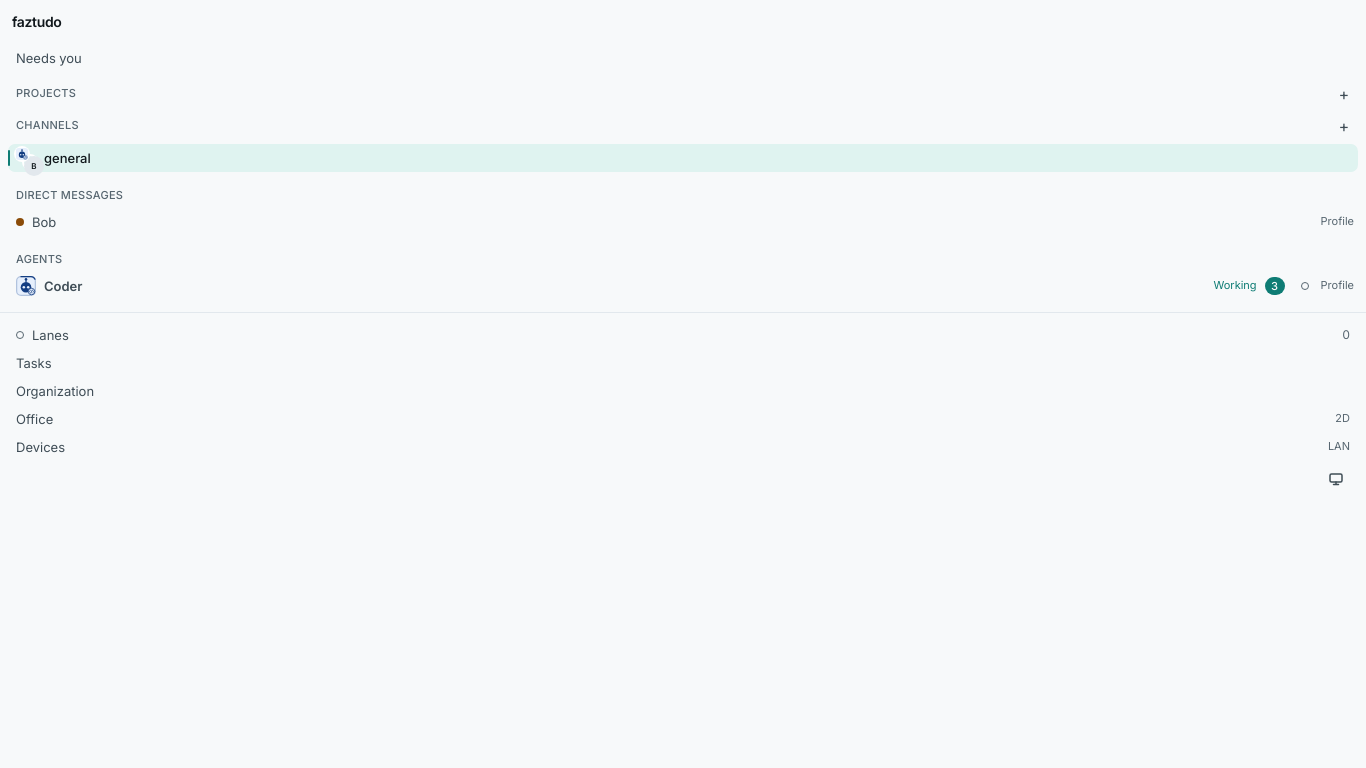
WorkspaceNav › cycles the theme System, Light, Dark with one icon button
Click the button named "Theme: System. Switch to Light.".
click(1336, 479)  # box [1322,465,1350,493]
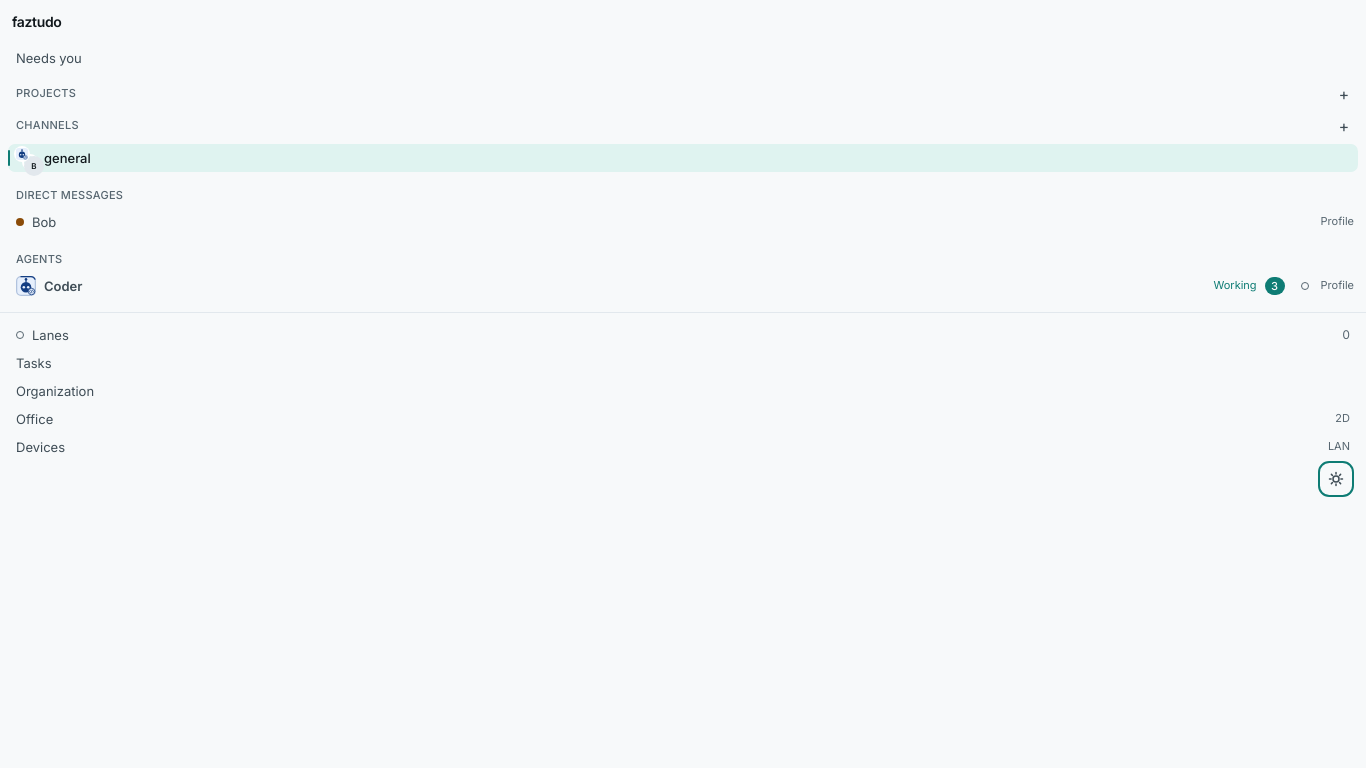
Now the button named "Theme: Light. Switch to Dark." is shown
Click the button named "Theme: Light. Switch to Dark.".
click(1336, 479)  # box [1322,465,1350,493]
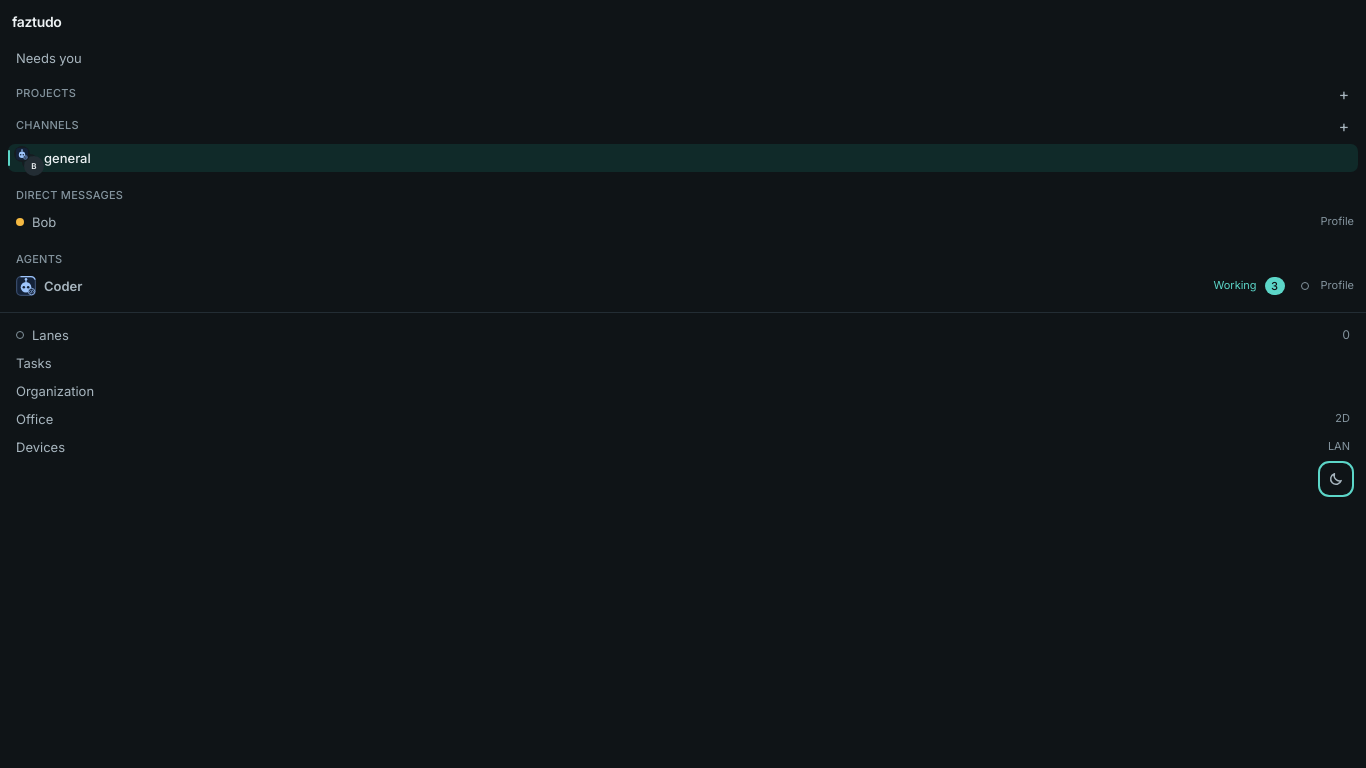
Click the button named "Theme: Dark. Switch to System.".
click(1336, 479)  # box [1322,465,1350,493]
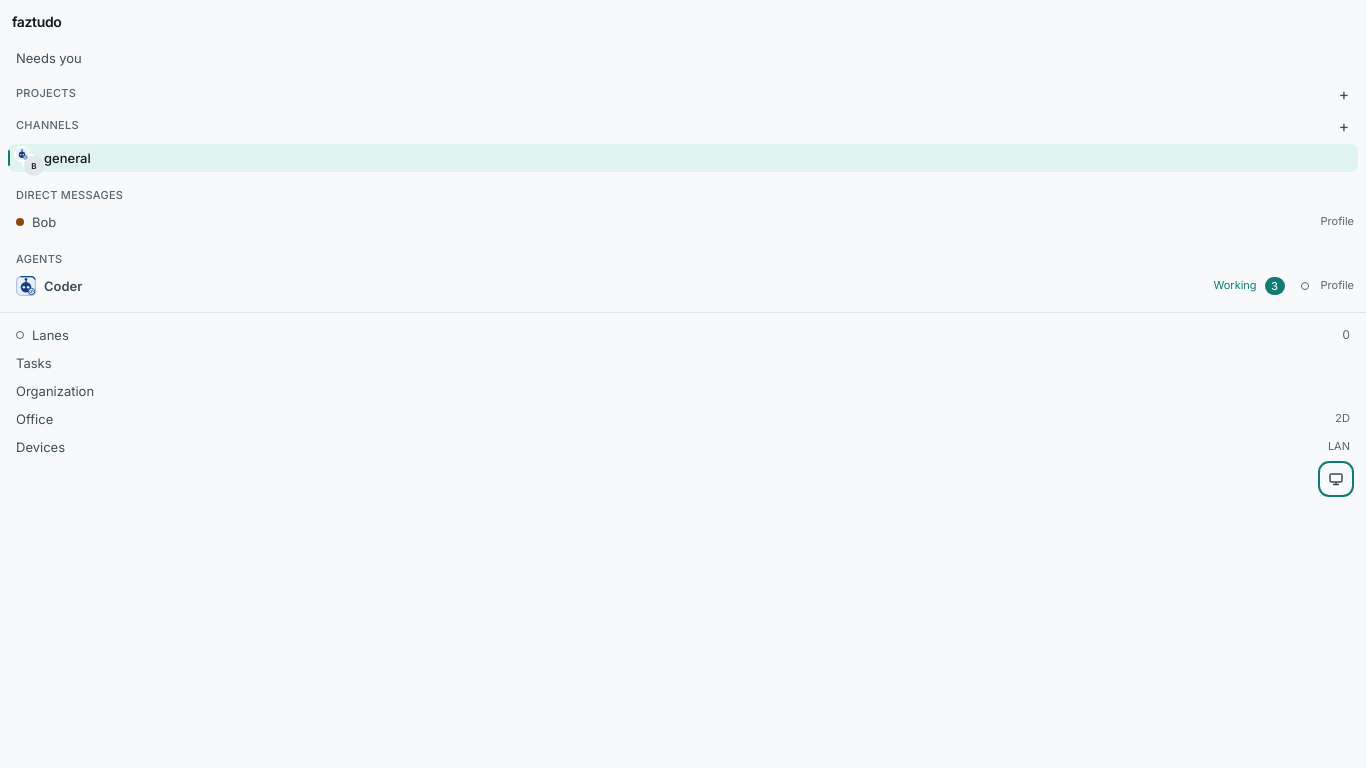
Now the button named "Theme: System. Switch to Light." is shown, box [1322,465,1350,493]
